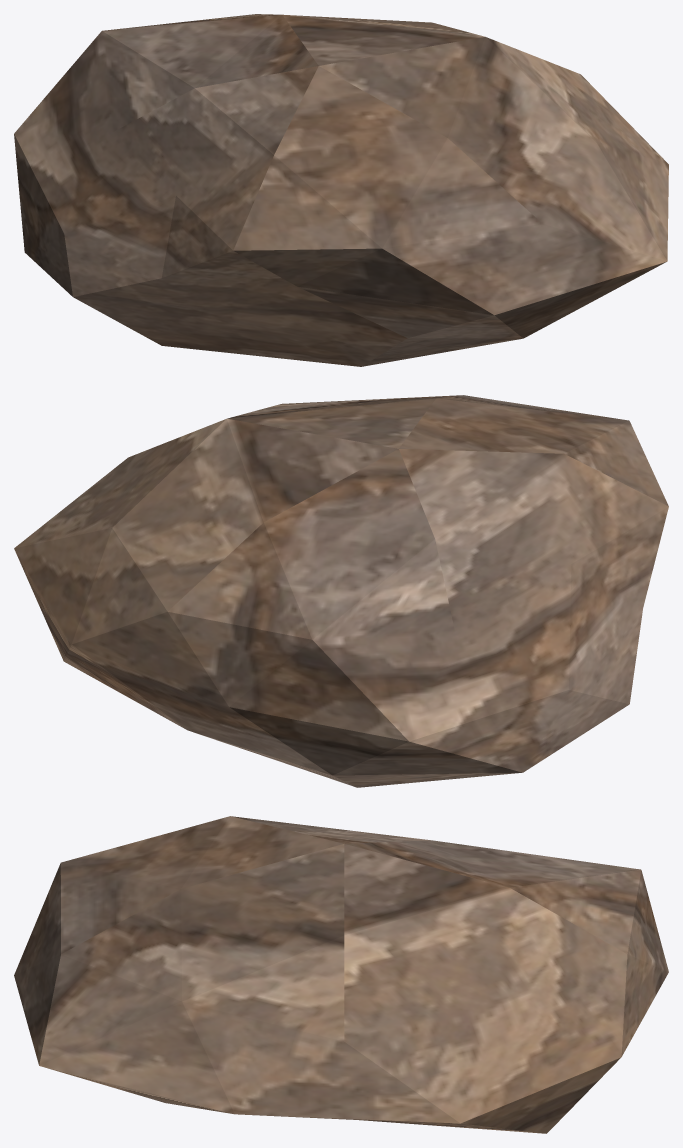
Rendered from rock-m-depleted.glb.
3 renders of one model, top to bottom at view 1: azimuth 30°, elevation 25°; view 2: azimuth 150°, elevation 25°; view 3: azimuth 270°, elevation 25°, orthographic. The views are drawn at different scales.
Visible parts, largest first — view 1: rock-m-depleted; view 2: rock-m-depleted; view 3: rock-m-depleted.
Part boxes in pixels (left/top/right/bottom): rock-m-depleted: left=14, top=14, right=668, bottom=366; rock-m-depleted: left=14, top=395, right=668, bottom=787; rock-m-depleted: left=14, top=816, right=668, bottom=1133.
Bounding box in the file's own units: 1.72 × 0.7491 × 1.8.
Materials: 1 (1 with a texture image).
